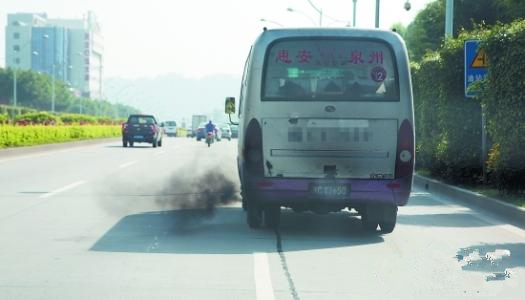smoke: (145, 165, 238, 230)
